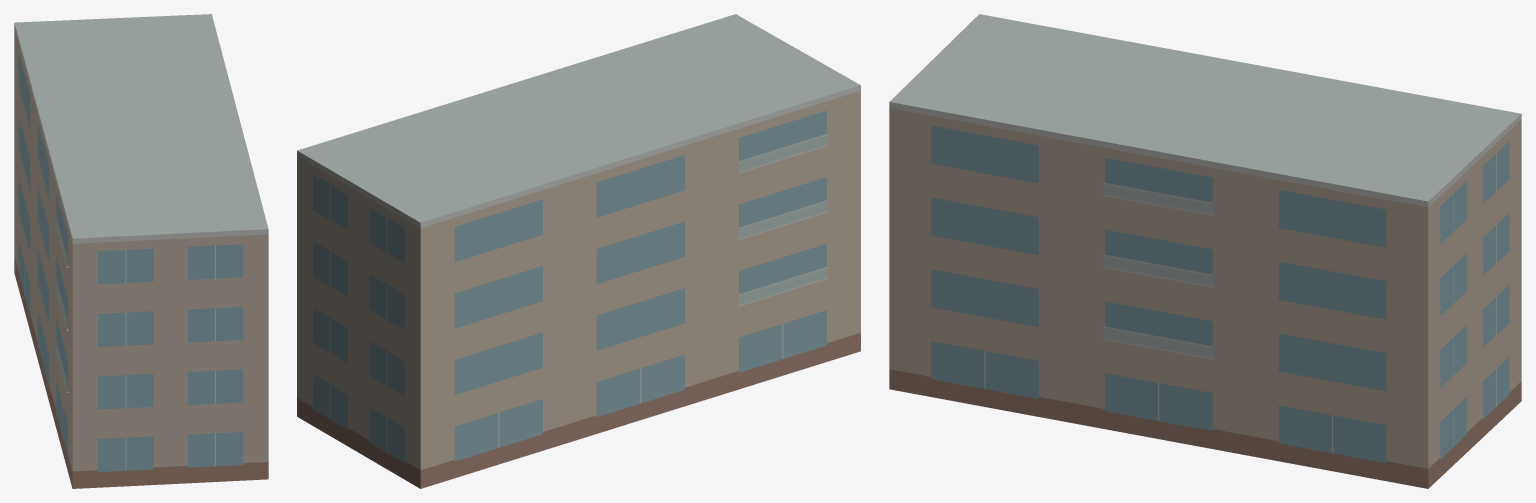
The model's file is survey-upis-32987985.glb.
3 views of the same model, side by side, from view 1: azimuth 30°, elevation 25°; view 2: azimuth 150°, elevation 25°; view 3: azimuth 270°, elevation 25° (orthographic). The views are drawn at different scales.
Visible parts, largest first — view 1: survey-upis-32987985.tmp; view 2: survey-upis-32987985.tmp; view 3: survey-upis-32987985.tmp.
Part boxes in pixels (x1=…): survey-upis-32987985.tmp: x1=14, y1=14, x2=268, y2=488; survey-upis-32987985.tmp: x1=297, y1=14, x2=860, y2=488; survey-upis-32987985.tmp: x1=889, y1=14, x2=1521, y2=488.
Size of the model in its own units: 16.38 by 11.7 by 23.34.
